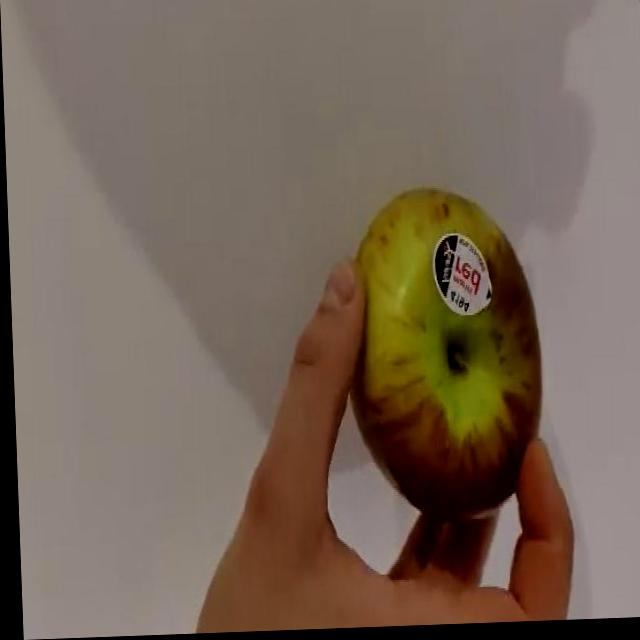Banana: (341, 189, 547, 593)
